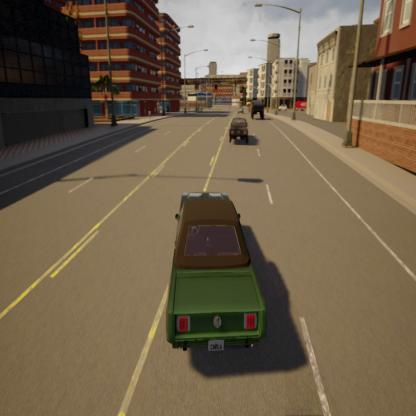Cars: (167, 187, 268, 357), (228, 115, 248, 143), (250, 91, 265, 122)
